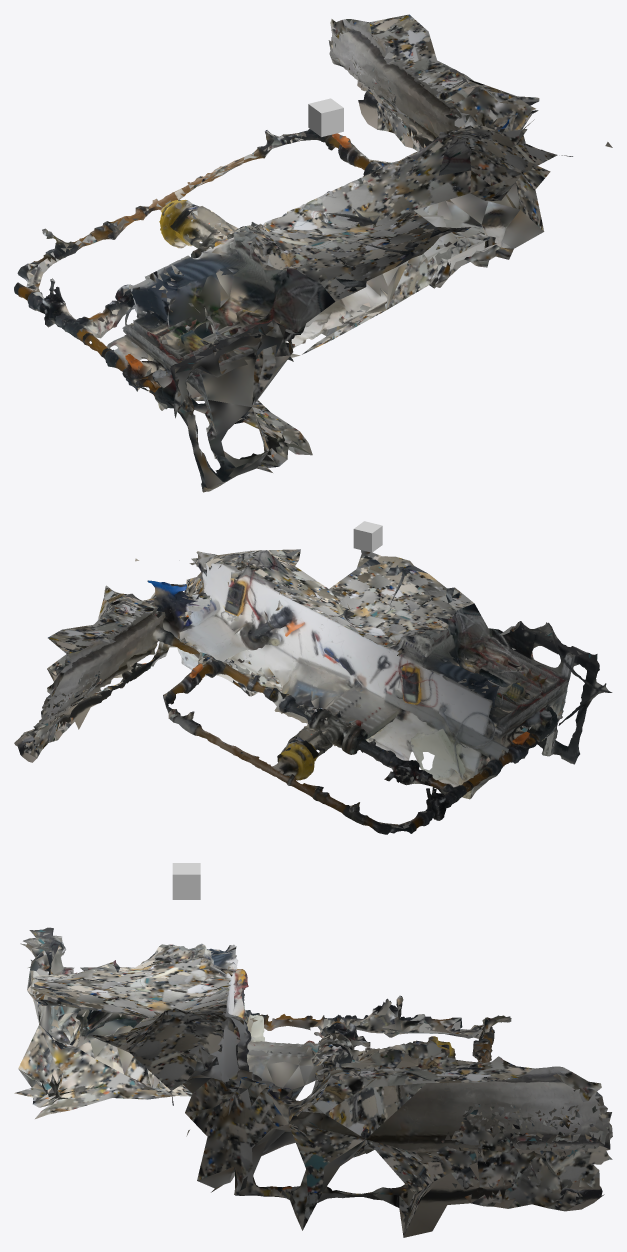
File: TestTower.fbx
3 renders of one model, top to bottom at view 1: azimuth 30°, elevation 25°; view 2: azimuth 150°, elevation 25°; view 3: azimuth 270°, elevation 25°, orthographic. The views are drawn at different scales.
Visible parts, largest first — view 1: model, Cube; view 2: model, Cube; view 3: model, Cube.
Part boxes in pixels (left/top/right/bottom): model: left=14, top=14, right=612, bottom=492; Cube: left=308, top=98, right=343, bottom=136; model: left=14, top=549, right=612, bottom=834; Cube: left=353, top=521, right=382, bottom=552; model: left=14, top=927, right=612, bottom=1237; Cube: left=172, top=863, right=200, bottom=899.
Size of the model in its own units: 4524 by 2471 by 4291.
